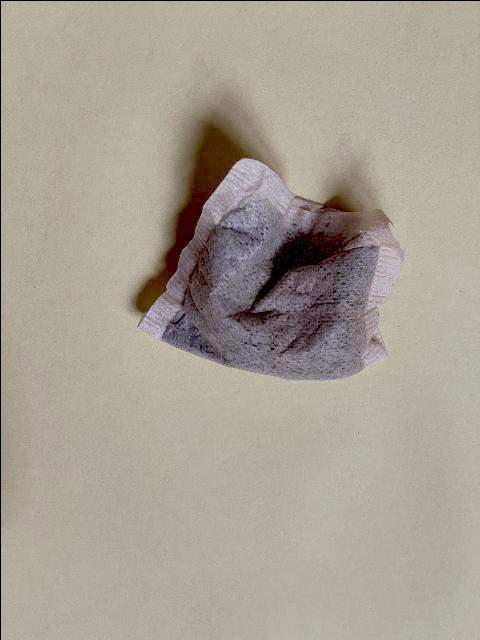teabag: (134, 153, 406, 383)
